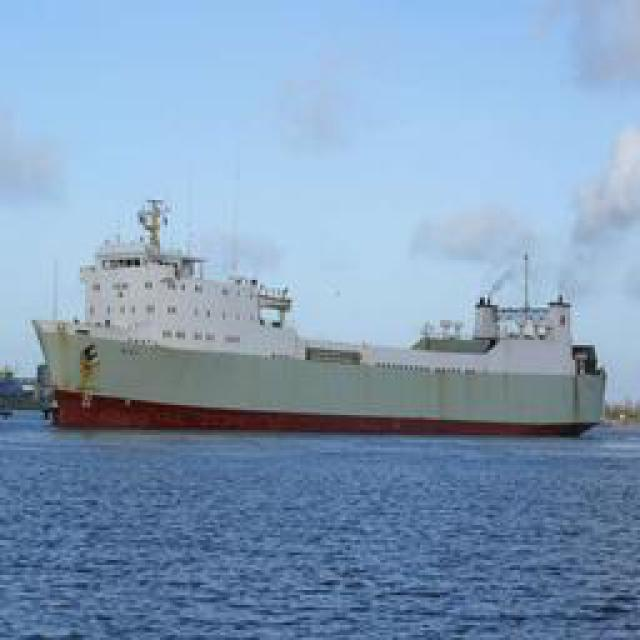Ship: (42, 204, 610, 439)
